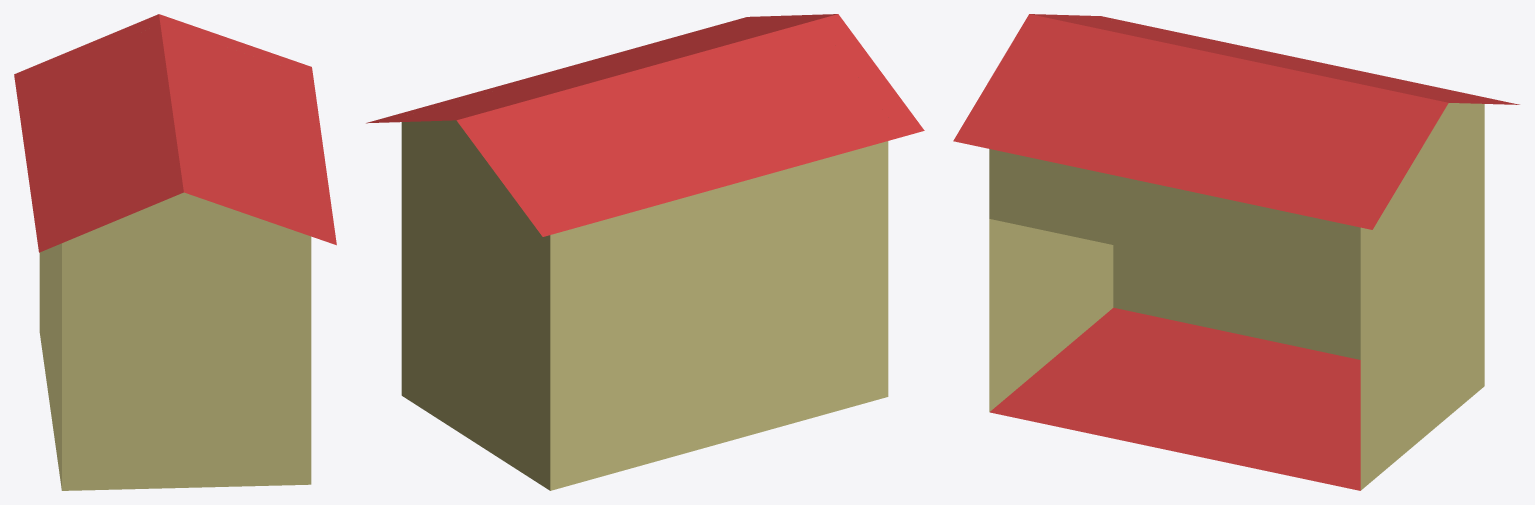
3 views of the same model, side by side, from view 1: azimuth 30°, elevation 25°; view 2: azimuth 150°, elevation 25°; view 3: azimuth 270°, elevation 25° (orthographic). The views are drawn at different scales.
Size of the model in its own units: 14.06 by 15.77 by 10.39.
